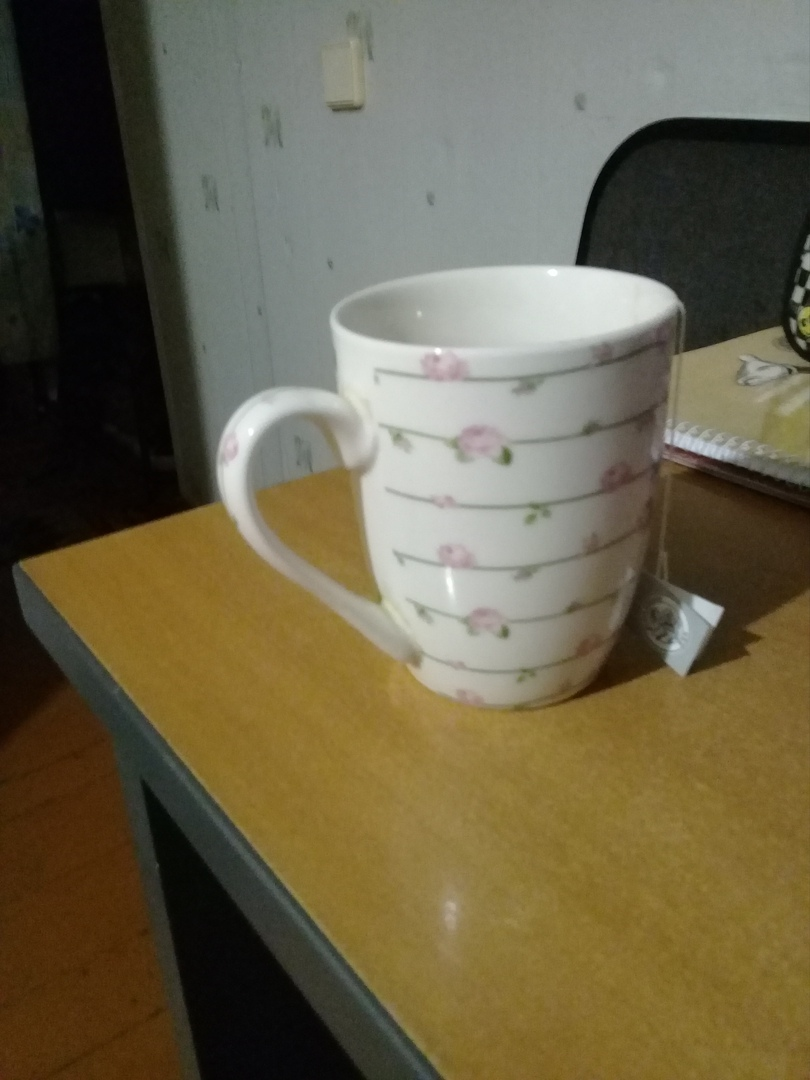cup: (215, 260, 704, 714)
